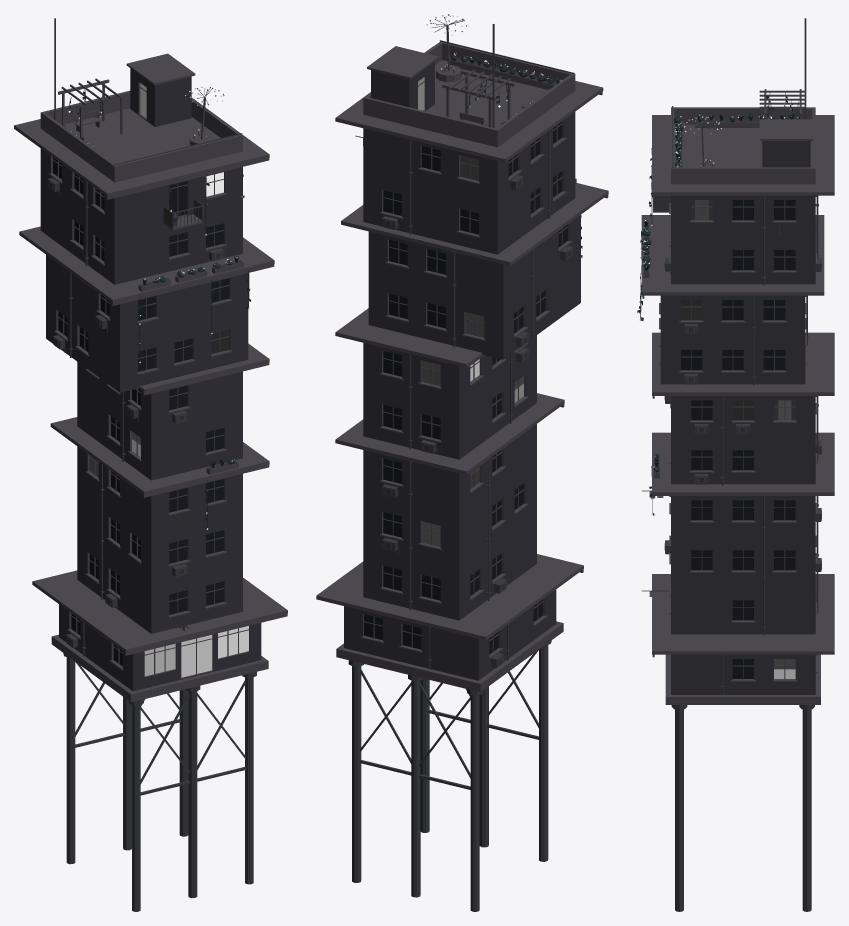
The model's file is mooring_stack_c.glb.
3 renders of one model, left to right at view 1: azimuth 30°, elevation 25°; view 2: azimuth 150°, elevation 25°; view 3: azimuth 270°, elevation 25°, orthographic. The views are drawn at different scales.
Visible parts, largest first — view 1: mooring_stack_c; view 2: mooring_stack_c; view 3: mooring_stack_c.
Part boxes in pixels (bbox=[...]): mooring_stack_c: bbox=[14, 14, 287, 911]; mooring_stack_c: bbox=[316, 14, 608, 911]; mooring_stack_c: bbox=[637, 14, 834, 911].
Size of the model in its own units: 11.8 by 53.36 by 11.46.
11 materials, 3 textured.
